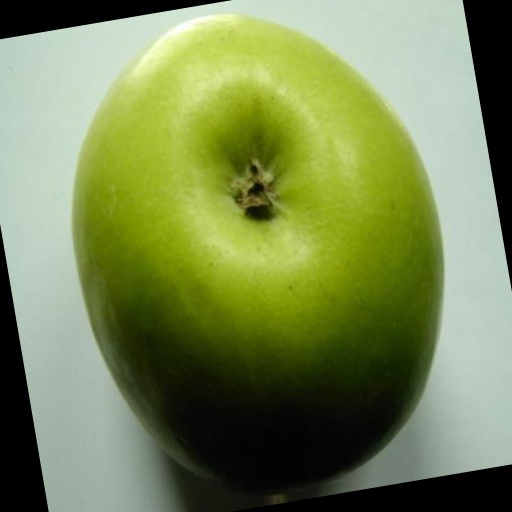fruit: (73, 15, 443, 492)
